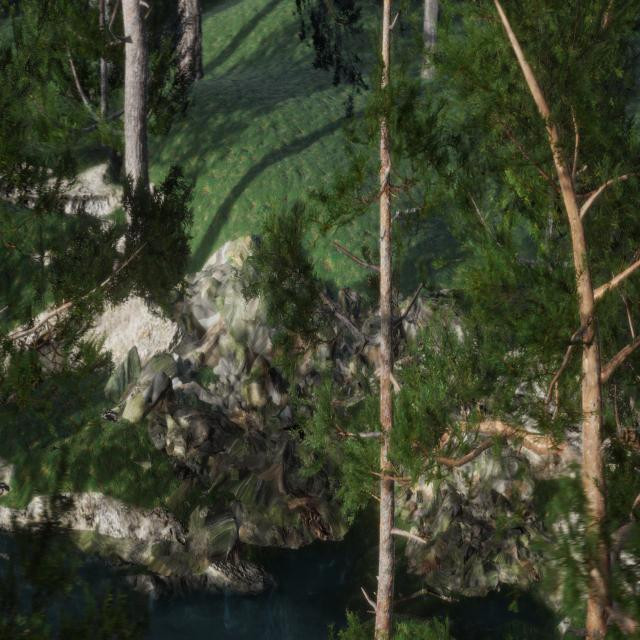Human: (362, 236, 404, 357)
